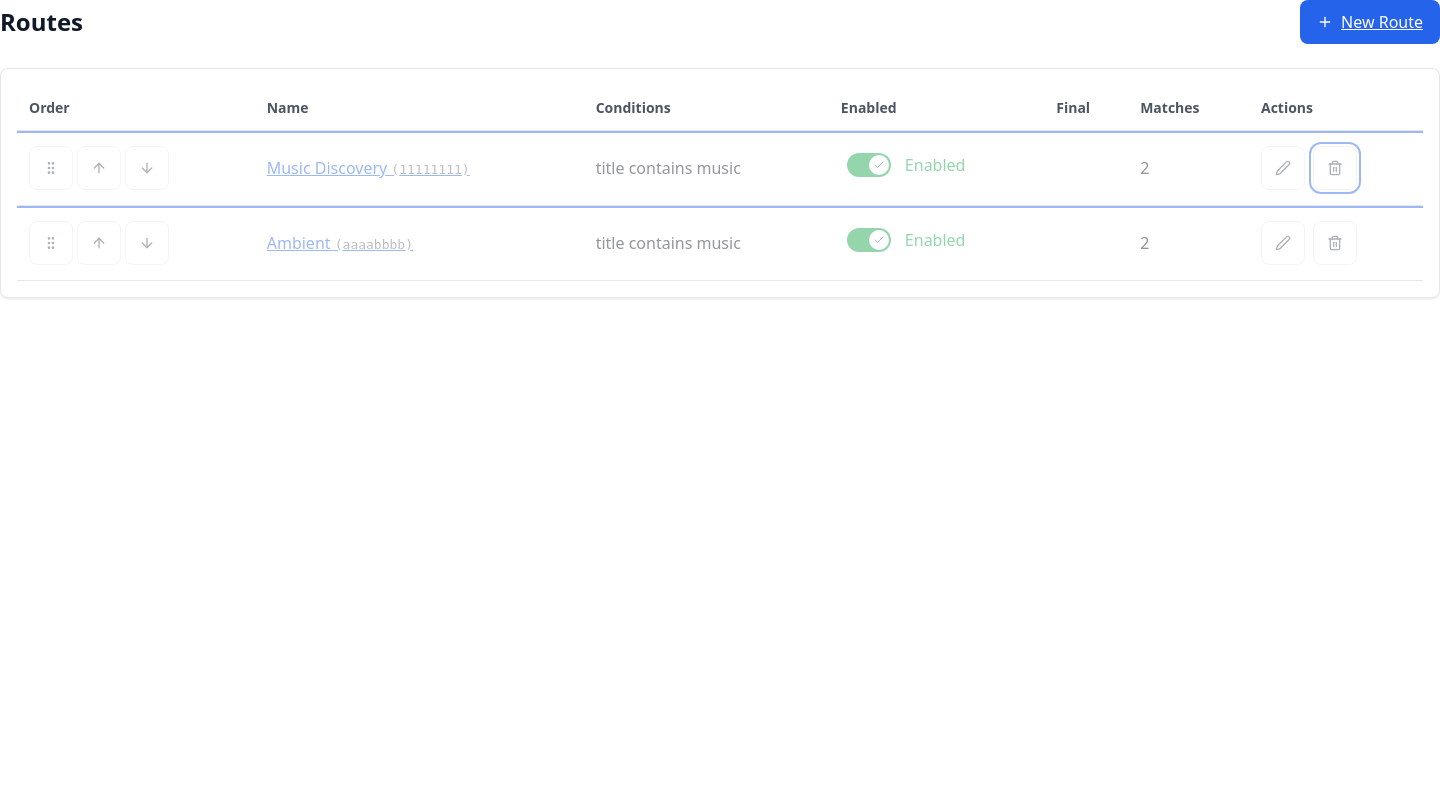
RoutesView › confirms deletion in an accessible dialog and moves focus to the next row
The width and height of the screenshot is (1440, 810).
expect the link "Music Discovery (11111111)" is shown: met, box x1=267 y1=157 x2=470 y2=179
Click the button named "Delete route Music Discovery" at (1335, 168), box x1=1313 y1=146 x2=1357 y2=190
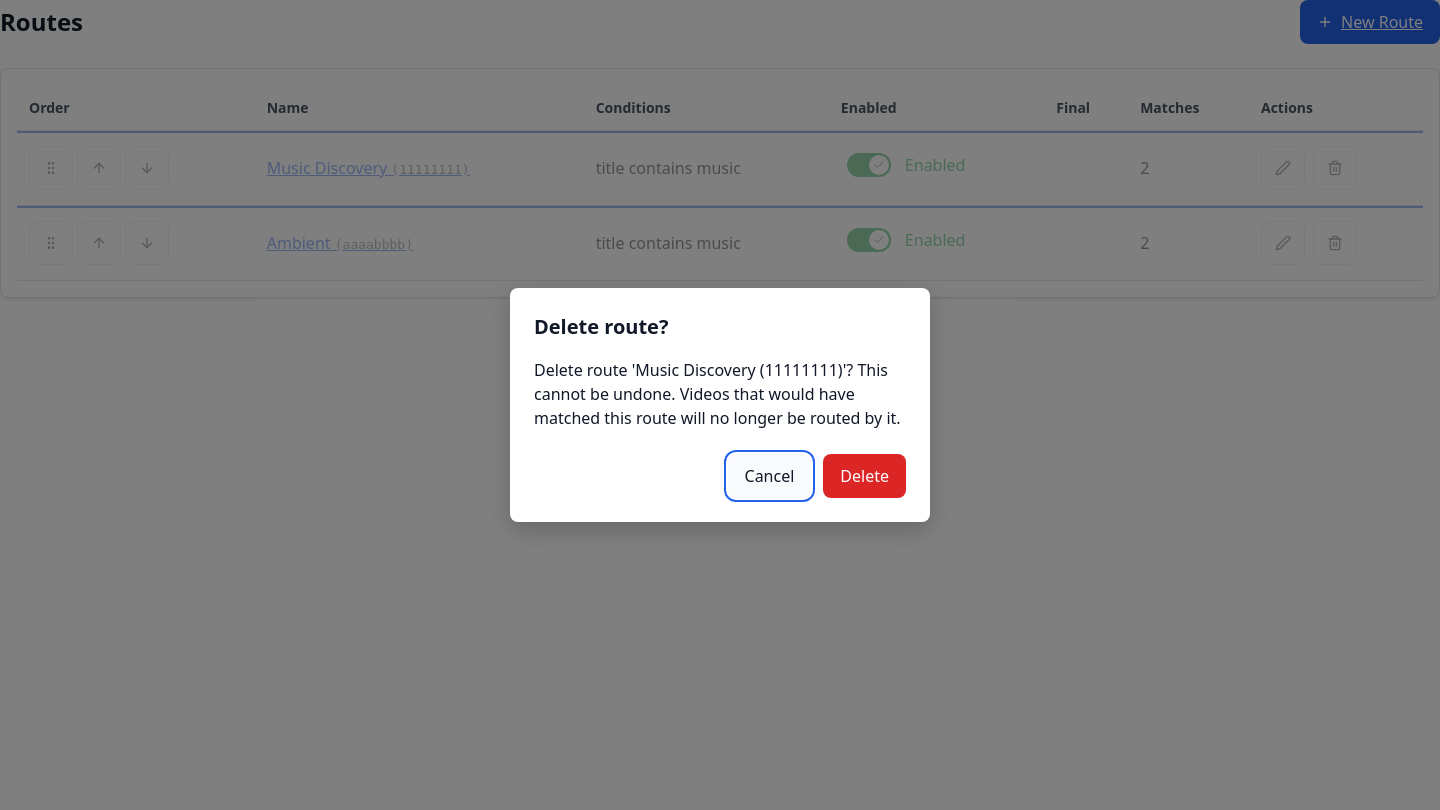
Press Escape
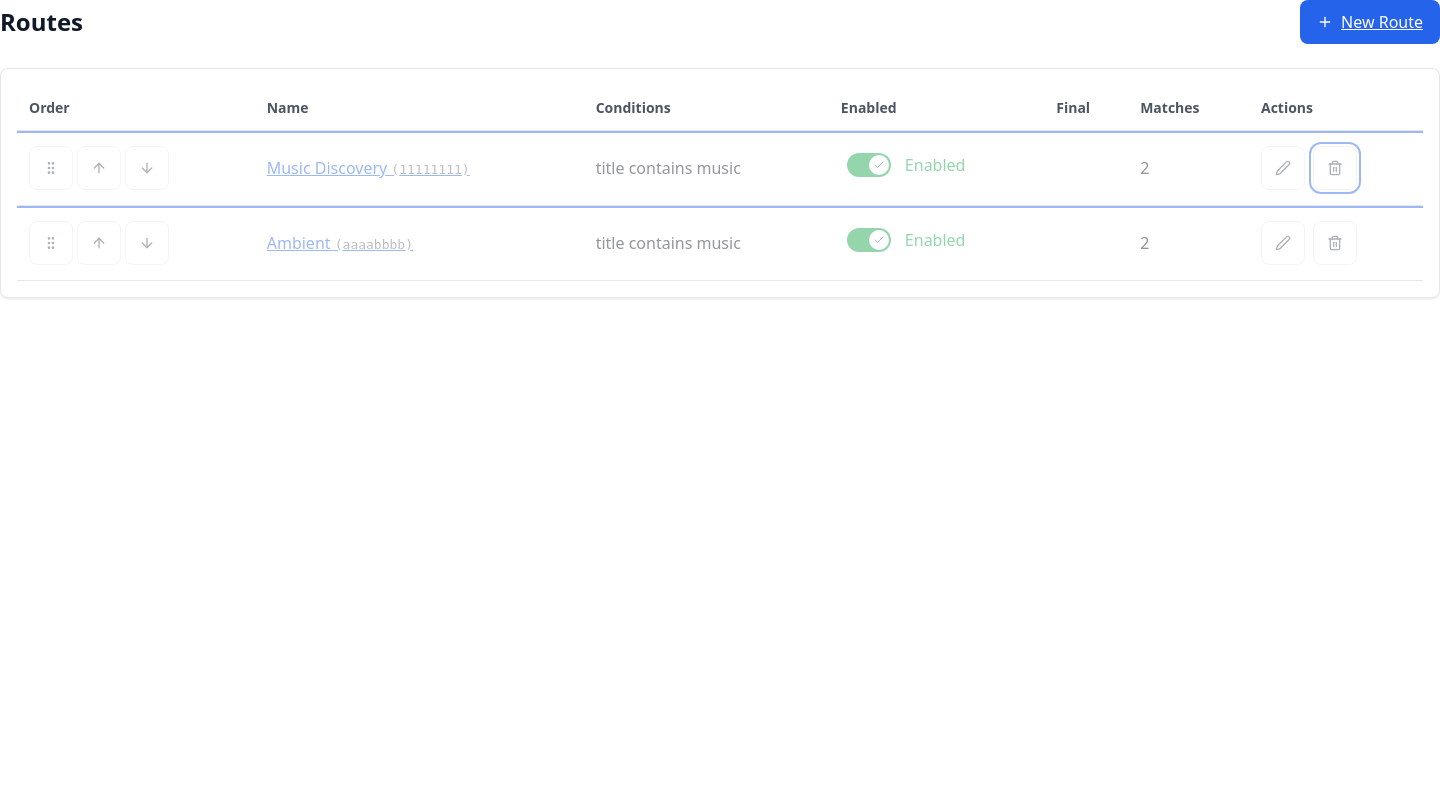
expect the dialog is gone: met
Click the button named "Delete route Music Discovery" at (1335, 168), box x1=1313 y1=146 x2=1357 y2=190
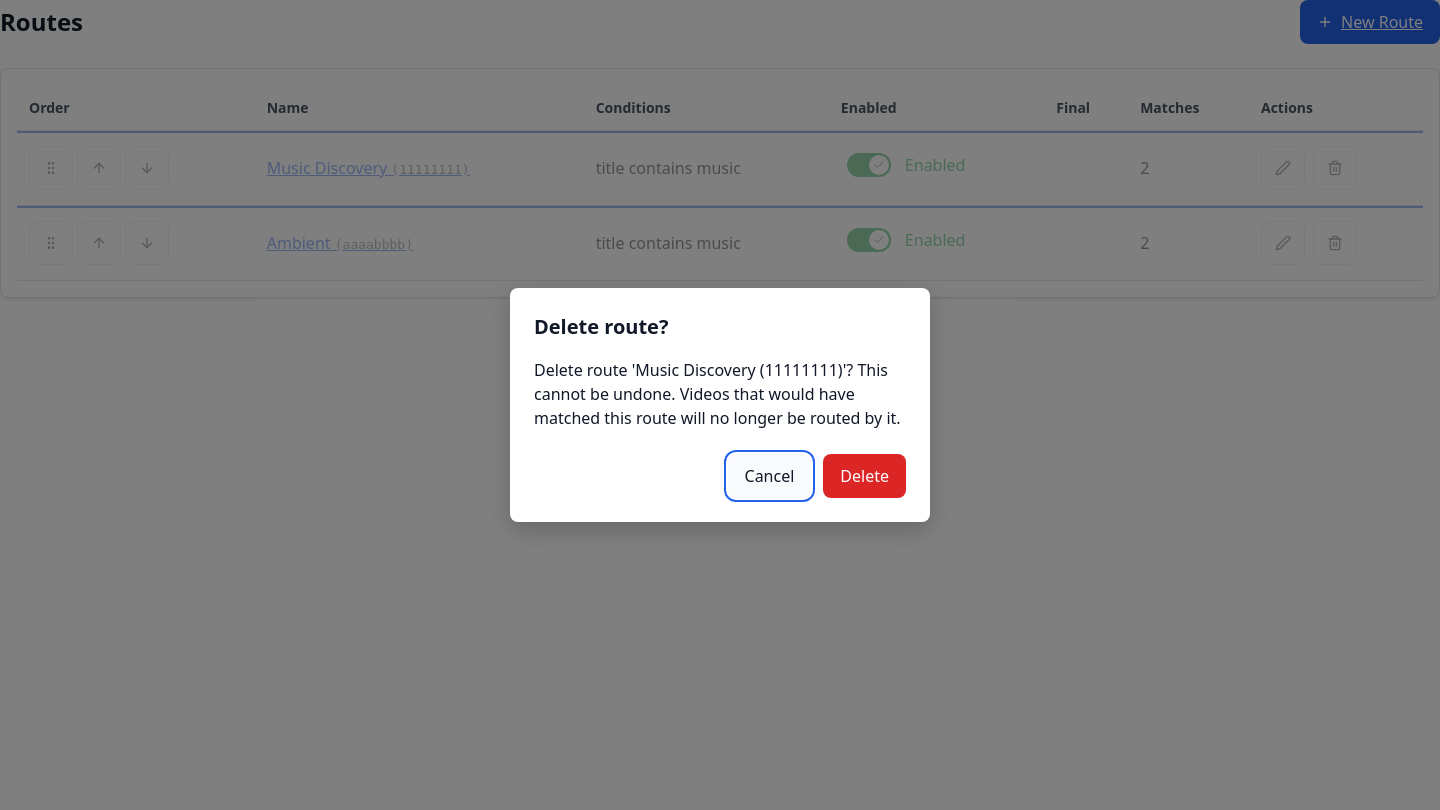
Click the button "Delete" at (865, 476), box x1=823 y1=454 x2=906 y2=498
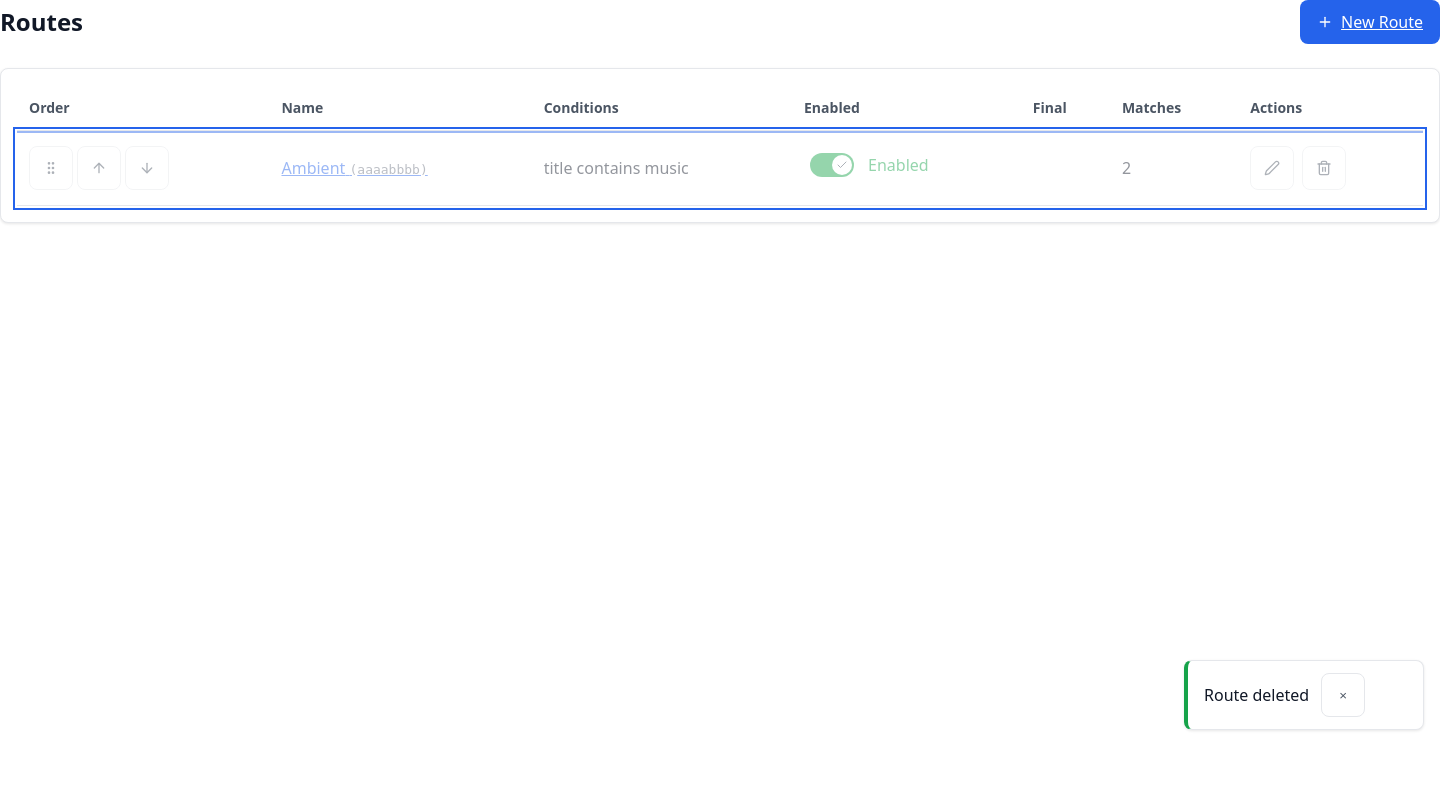
expect the link "Music Discovery" is gone: met
